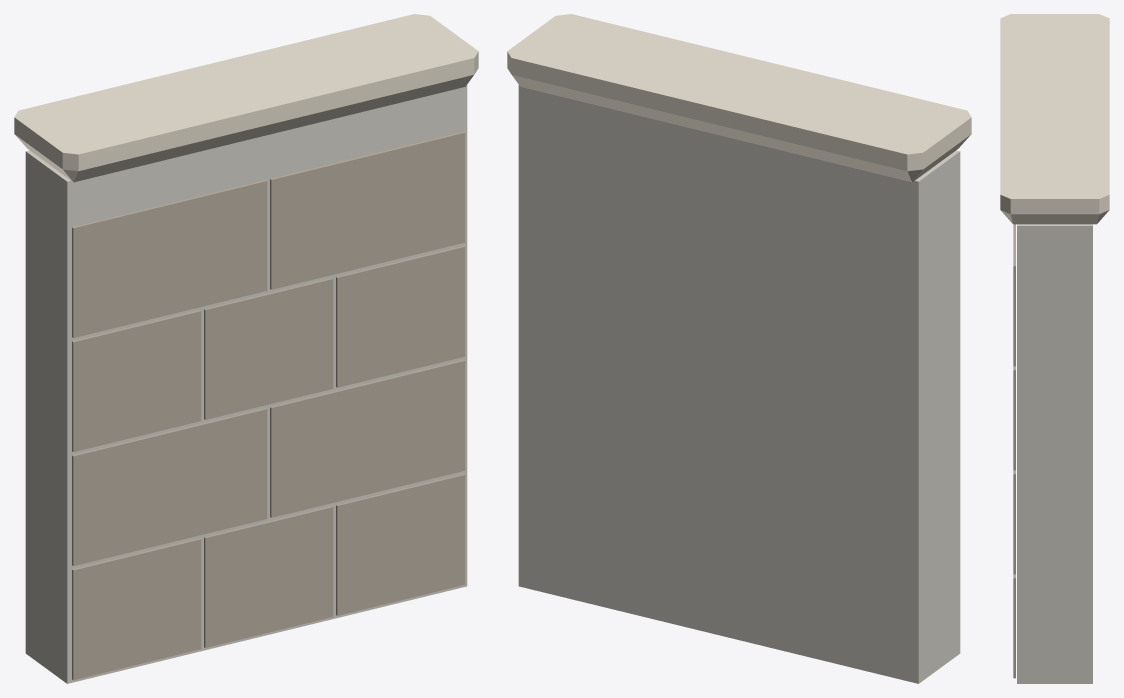
The model's file is roman-bathhouse-and-palaestra-boundary-wall-run-83bb665e__37869.glb.
3 renders of one model, left to right at view 1: azimuth 30°, elevation 25°; view 2: azimuth 150°, elevation 25°; view 3: azimuth 270°, elevation 25°, orthographic. The views are drawn at different scales.
Parts seen in each view (by area): view 1: boundary-wall-run; view 2: boundary-wall-run; view 3: boundary-wall-run.
Boxes of the visible parts, x1,y1,x2,y2 form: boundary-wall-run: [14, 14, 478, 683]; boundary-wall-run: [507, 14, 971, 683]; boundary-wall-run: [1000, 14, 1109, 683].
Bounding box in the file's own units: 2.08 × 2.56 × 0.5201.
